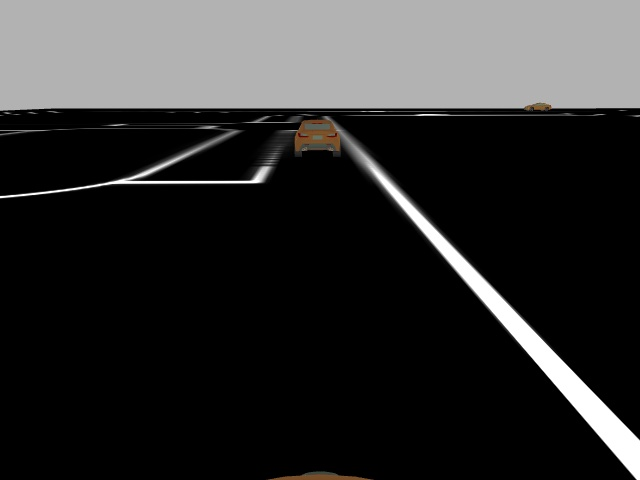obstacle_car: (292, 118, 343, 159)
